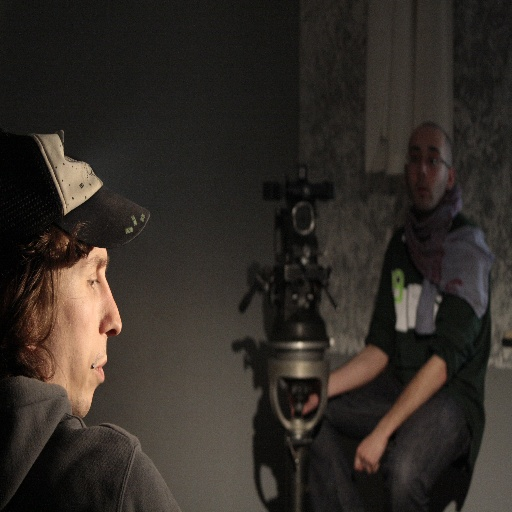hand: (361, 421, 394, 491), (286, 393, 318, 417)
